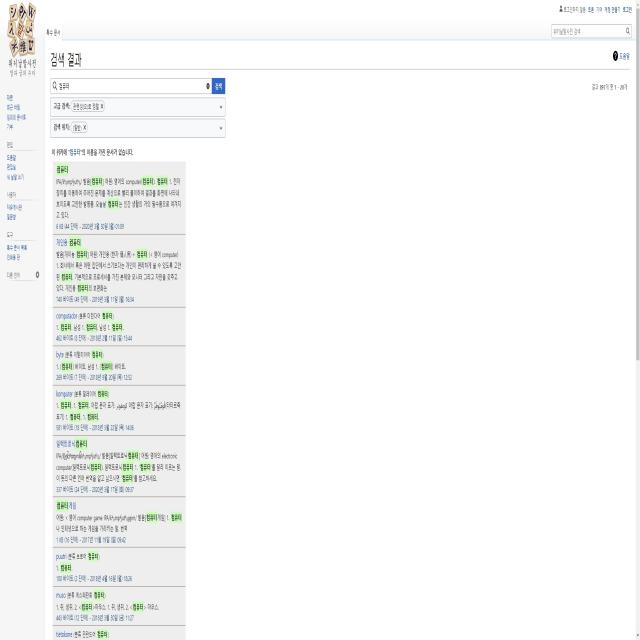menu-panel: (6, 89, 41, 285)
search: (50, 75, 226, 95), (551, 24, 632, 36)
